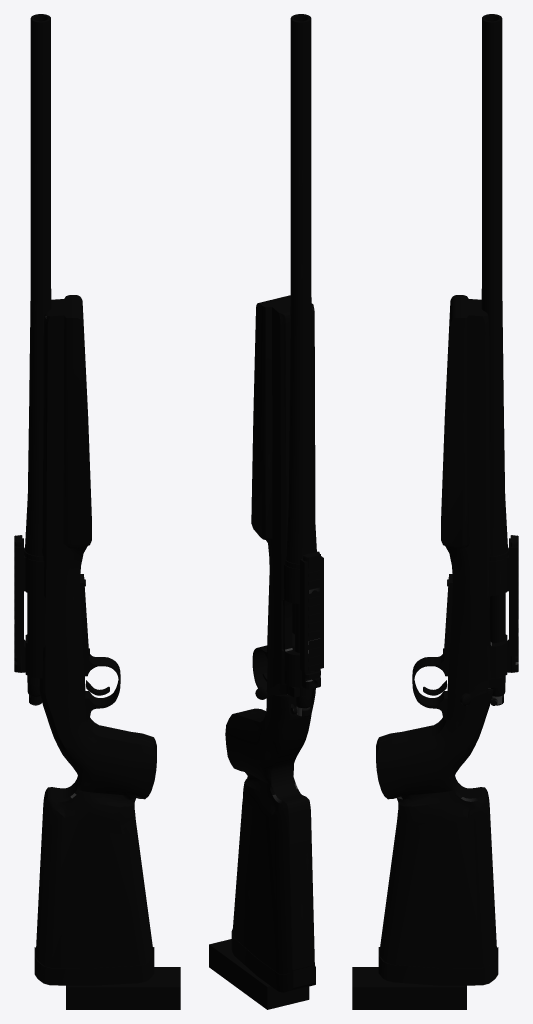
File: Rem700__Mount_ScopeBase__RecoilPad_Rubber.fbx
3 renders of one model, left to right at view 1: azimuth 90°, elevation 25°; view 2: azimuth 210°, elevation 25°; view 3: azimuth 270°, elevation 25°, orthographic.
Visible parts, largest first — view 1: asset_Rem700.001; view 2: asset_Rem700.001; view 3: asset_Rem700.001.
Part boxes in pixels (x1,y1,x2,y2): asset_Rem700.001: (14, 14, 180, 1009); asset_Rem700.001: (209, 14, 323, 1009); asset_Rem700.001: (352, 14, 518, 1009).
Size of the model in its own units: 0.0372 by 0.651 by 0.1.
